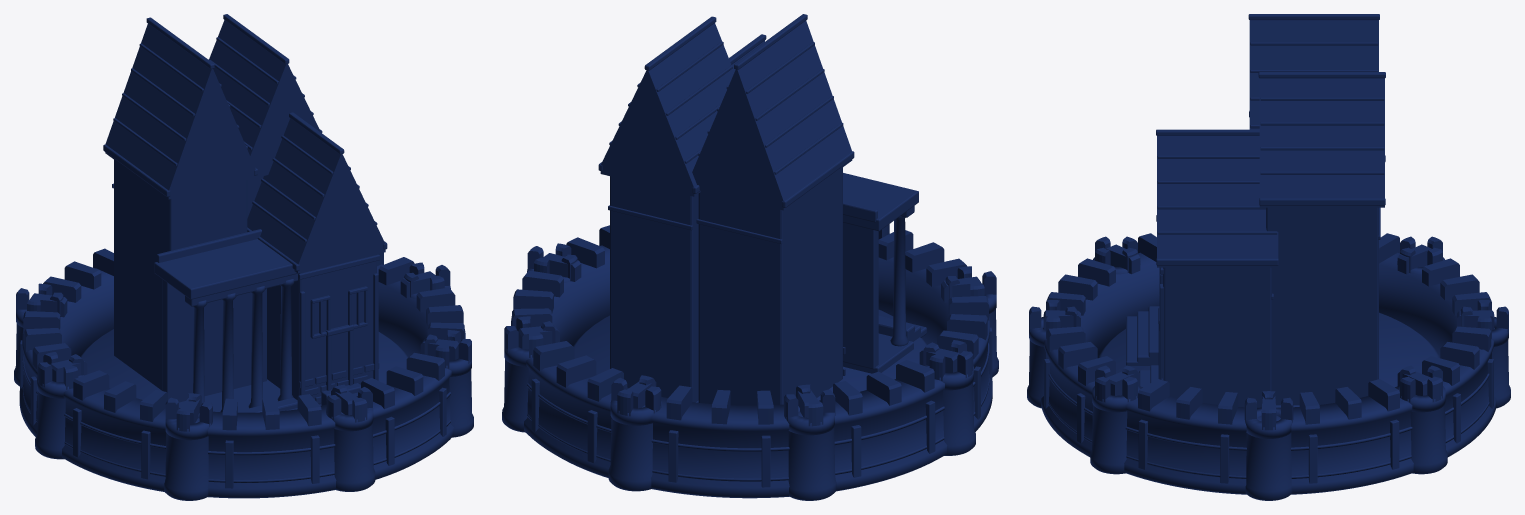
File: city-with-wall-blue.fbx
3 views of the same model, side by side, from view 1: azimuth 30°, elevation 25°; view 2: azimuth 150°, elevation 25°; view 3: azimuth 270°, elevation 25° (orthographic). The views are drawn at different scales.
Parts seen in each view (by area): view 1: Combined_City_Body, Combined_Independent_City_Wall; view 2: Combined_City_Body, Combined_Independent_City_Wall; view 3: Combined_City_Body, Combined_Independent_City_Wall.
Boxes of the visible parts, <box> form: Combined_City_Body: <box>80,14,408,412</box>; Combined_Independent_City_Wall: <box>14,248,473,500</box>; Combined_City_Body: <box>573,14,927,405</box>; Combined_Independent_City_Wall: <box>502,224,998,500</box>; Combined_City_Body: <box>1098,14,1439,407</box>; Combined_Independent_City_Wall: <box>1027,233,1510,500</box>.
Size of the model in its own units: 0.024 by 0.02 by 0.024.
